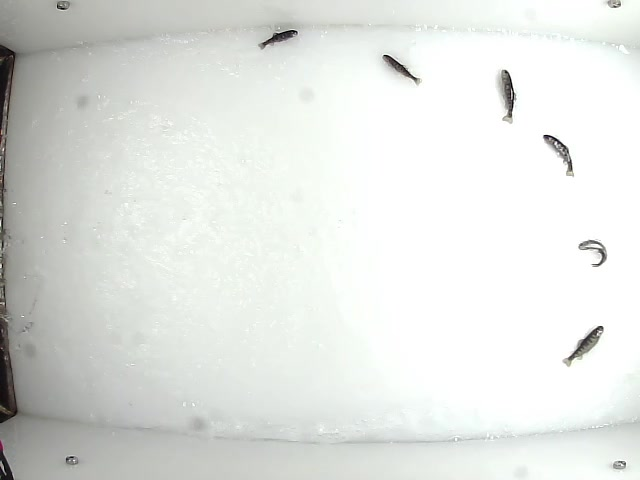fish: (561, 323, 604, 369), (542, 134, 577, 179), (381, 53, 424, 87), (497, 67, 520, 125), (256, 29, 301, 53), (578, 236, 610, 268)
